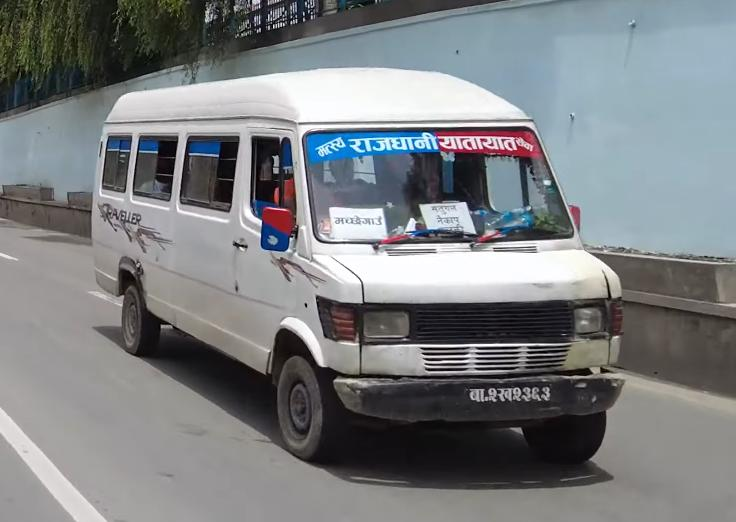micro_bus: (90, 62, 627, 473)
